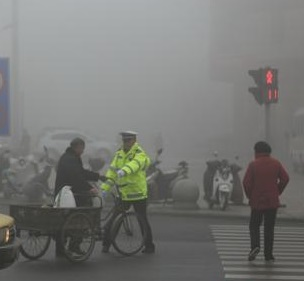person: (101, 128, 157, 254), (48, 136, 99, 261), (240, 134, 289, 264)
